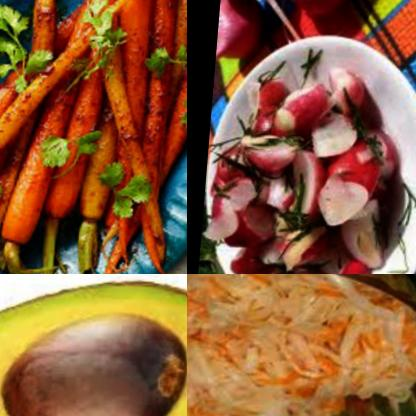avocado: (0, 274, 187, 416)
cabbage: (187, 274, 416, 416)
carrot: (0, 0, 178, 264), (318, 348, 351, 380), (326, 316, 353, 352), (194, 403, 227, 416)
rediska: (211, 75, 411, 274), (215, 0, 265, 62), (276, 0, 359, 14), (219, 0, 281, 9)
